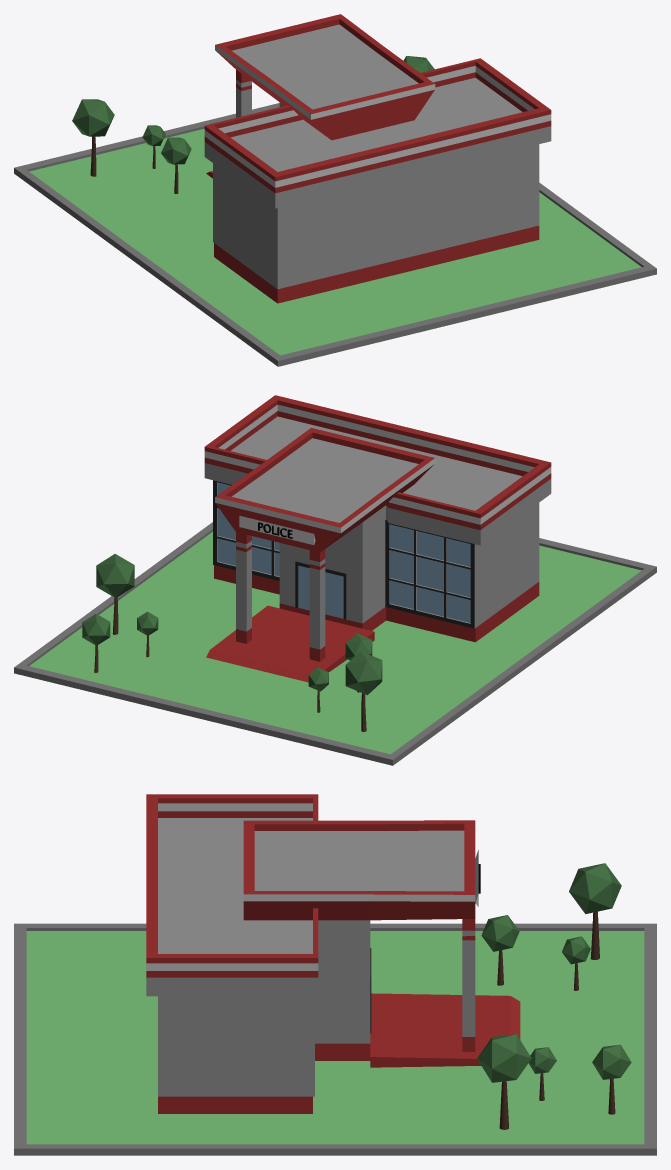
File: delegacia_2.fbx
3 renders of one model, top to bottom at view 1: azimuth 30°, elevation 25°; view 2: azimuth 150°, elevation 25°; view 3: azimuth 270°, elevation 25°, orthographic. The views are drawn at different scales.
Parts seen in each view (by area): view 1: delegacia_pronta:typeMesh3, delegacia_pronta:pCube2, delegacia_pronta:polySurface3, delegacia_pronta:polySurface6; view 2: delegacia_pronta:typeMesh3, delegacia_pronta:pCube2, delegacia_pronta:pCylinder2, delegacia_pronta:polySurface3, delegacia_pronta:pCylinder3; view 3: delegacia_pronta:pCube2, delegacia_pronta:typeMesh3, delegacia_pronta:polySurface3, delegacia_pronta:pCylinder2, delegacia_pronta:polySurface6, delegacia_pronta:pCylinder3, delegacia_pronta:polySurface2, delegacia_pronta:pCylinder4.
Boxes of the visible parts, bbox=[...] form: delegacia_pronta:typeMesh3: bbox=[204, 14, 551, 303]; delegacia_pronta:pCube2: bbox=[14, 103, 656, 366]; delegacia_pronta:polySurface3: bbox=[72, 99, 114, 176]; delegacia_pronta:polySurface6: bbox=[161, 137, 191, 193]; delegacia_pronta:typeMesh3: bbox=[204, 395, 551, 682]; delegacia_pronta:pCube2: bbox=[14, 522, 656, 765]; delegacia_pronta:pCylinder2: bbox=[96, 554, 134, 634]; delegacia_pronta:polySurface3: bbox=[345, 651, 382, 731]; delegacia_pronta:pCylinder3: bbox=[82, 613, 110, 672]; delegacia_pronta:pCube2: bbox=[14, 923, 656, 1155]; delegacia_pronta:typeMesh3: bbox=[146, 794, 520, 1113]; delegacia_pronta:polySurface3: bbox=[569, 863, 621, 959]; delegacia_pronta:pCylinder2: bbox=[477, 1034, 531, 1129]; delegacia_pronta:polySurface6: bbox=[481, 915, 519, 985]; delegacia_pronta:pCylinder3: bbox=[592, 1044, 631, 1114]; delegacia_pronta:polySurface2: bbox=[562, 936, 590, 990]; delegacia_pronta:pCylinder4: bbox=[528, 1047, 556, 1100].
Bounding box in the file's own units: 31.04 × 11.94 × 37.48.
